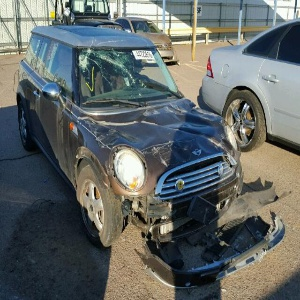bonnet: (119, 107, 212, 142)
bumper: (128, 194, 269, 260)
